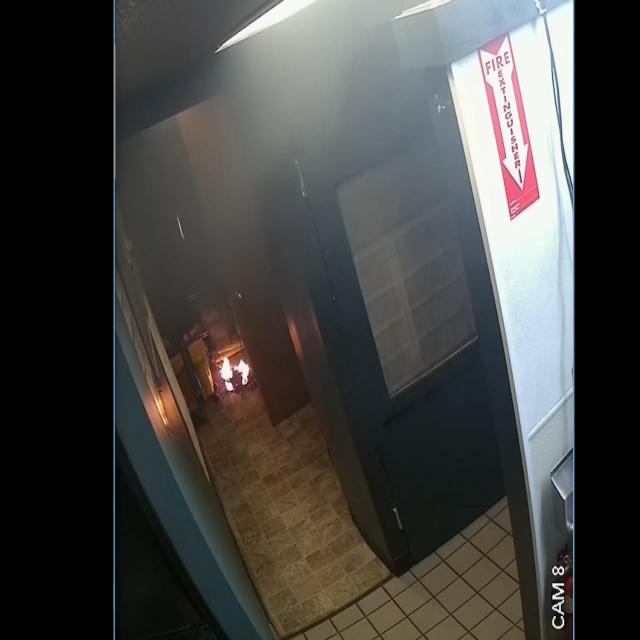fire: (220, 356, 249, 391)
